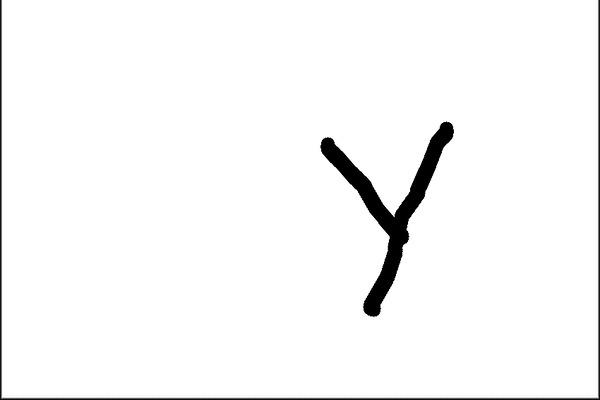Y: (308, 109, 475, 334)
